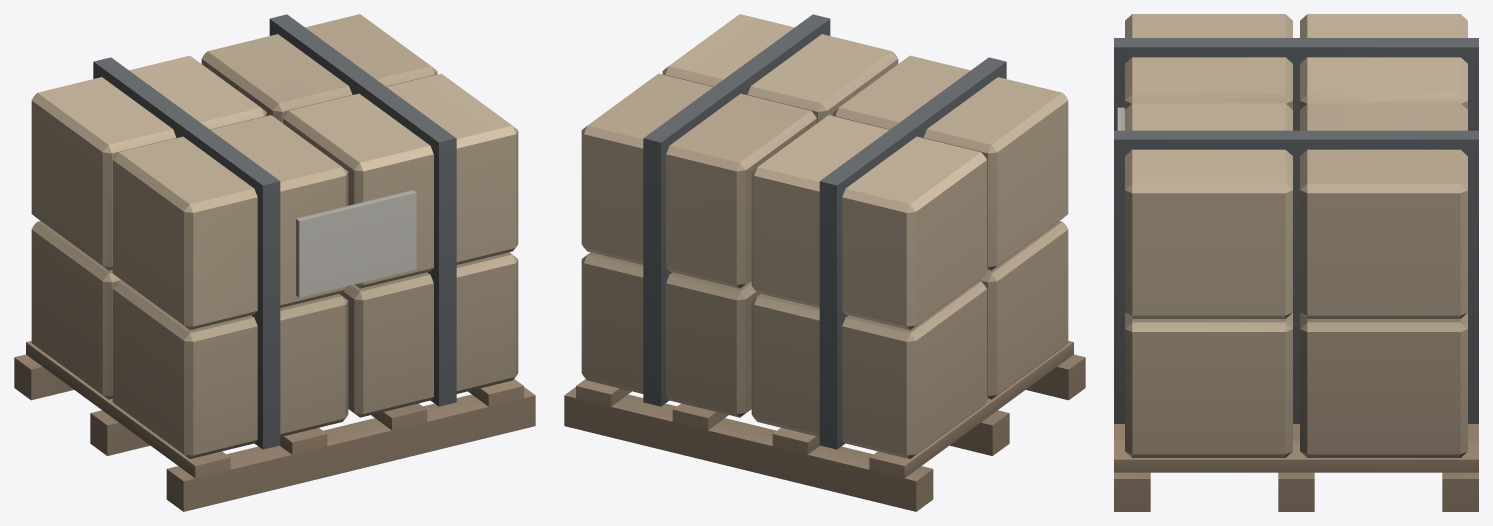
Rendered from mil_pallets.glb.
3 renders of one model, left to right at view 1: azimuth 30°, elevation 25°; view 2: azimuth 150°, elevation 25°; view 3: azimuth 270°, elevation 25°, orthographic. The views are drawn at different scales.
Visible parts, largest first — view 1: mil_pallets; view 2: mil_pallets; view 3: mil_pallets.
Boxes of the visible parts, x1,y1,x2,y2 form: mil_pallets: [14, 14, 535, 511]; mil_pallets: [564, 14, 1085, 511]; mil_pallets: [1114, 14, 1478, 511].
Size of the model in its own units: 1.2 by 1 by 1.
